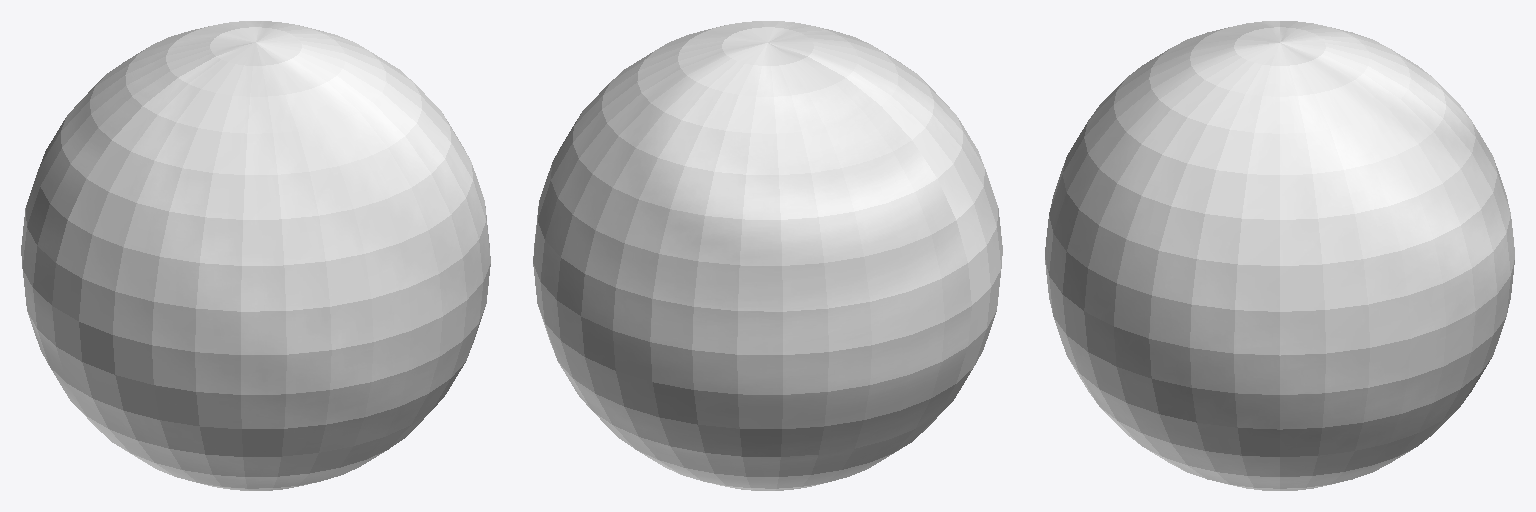
The picture shows the model from 3 angles: view 1: azimuth 30°, elevation 25°; view 2: azimuth 150°, elevation 25°; view 3: azimuth 270°, elevation 25°; orthographic projection.
Parts seen in each view (by area): view 1: Sphere13; view 2: Sphere13; view 3: Sphere13.
Part boxes in pixels (x1,y1,x2,y2): Sphere13: (21, 21, 490, 490); Sphere13: (533, 21, 1002, 490); Sphere13: (1045, 21, 1514, 490).
Size of the model in its own units: 2 by 2 by 2.
1 materials, 1 textured.